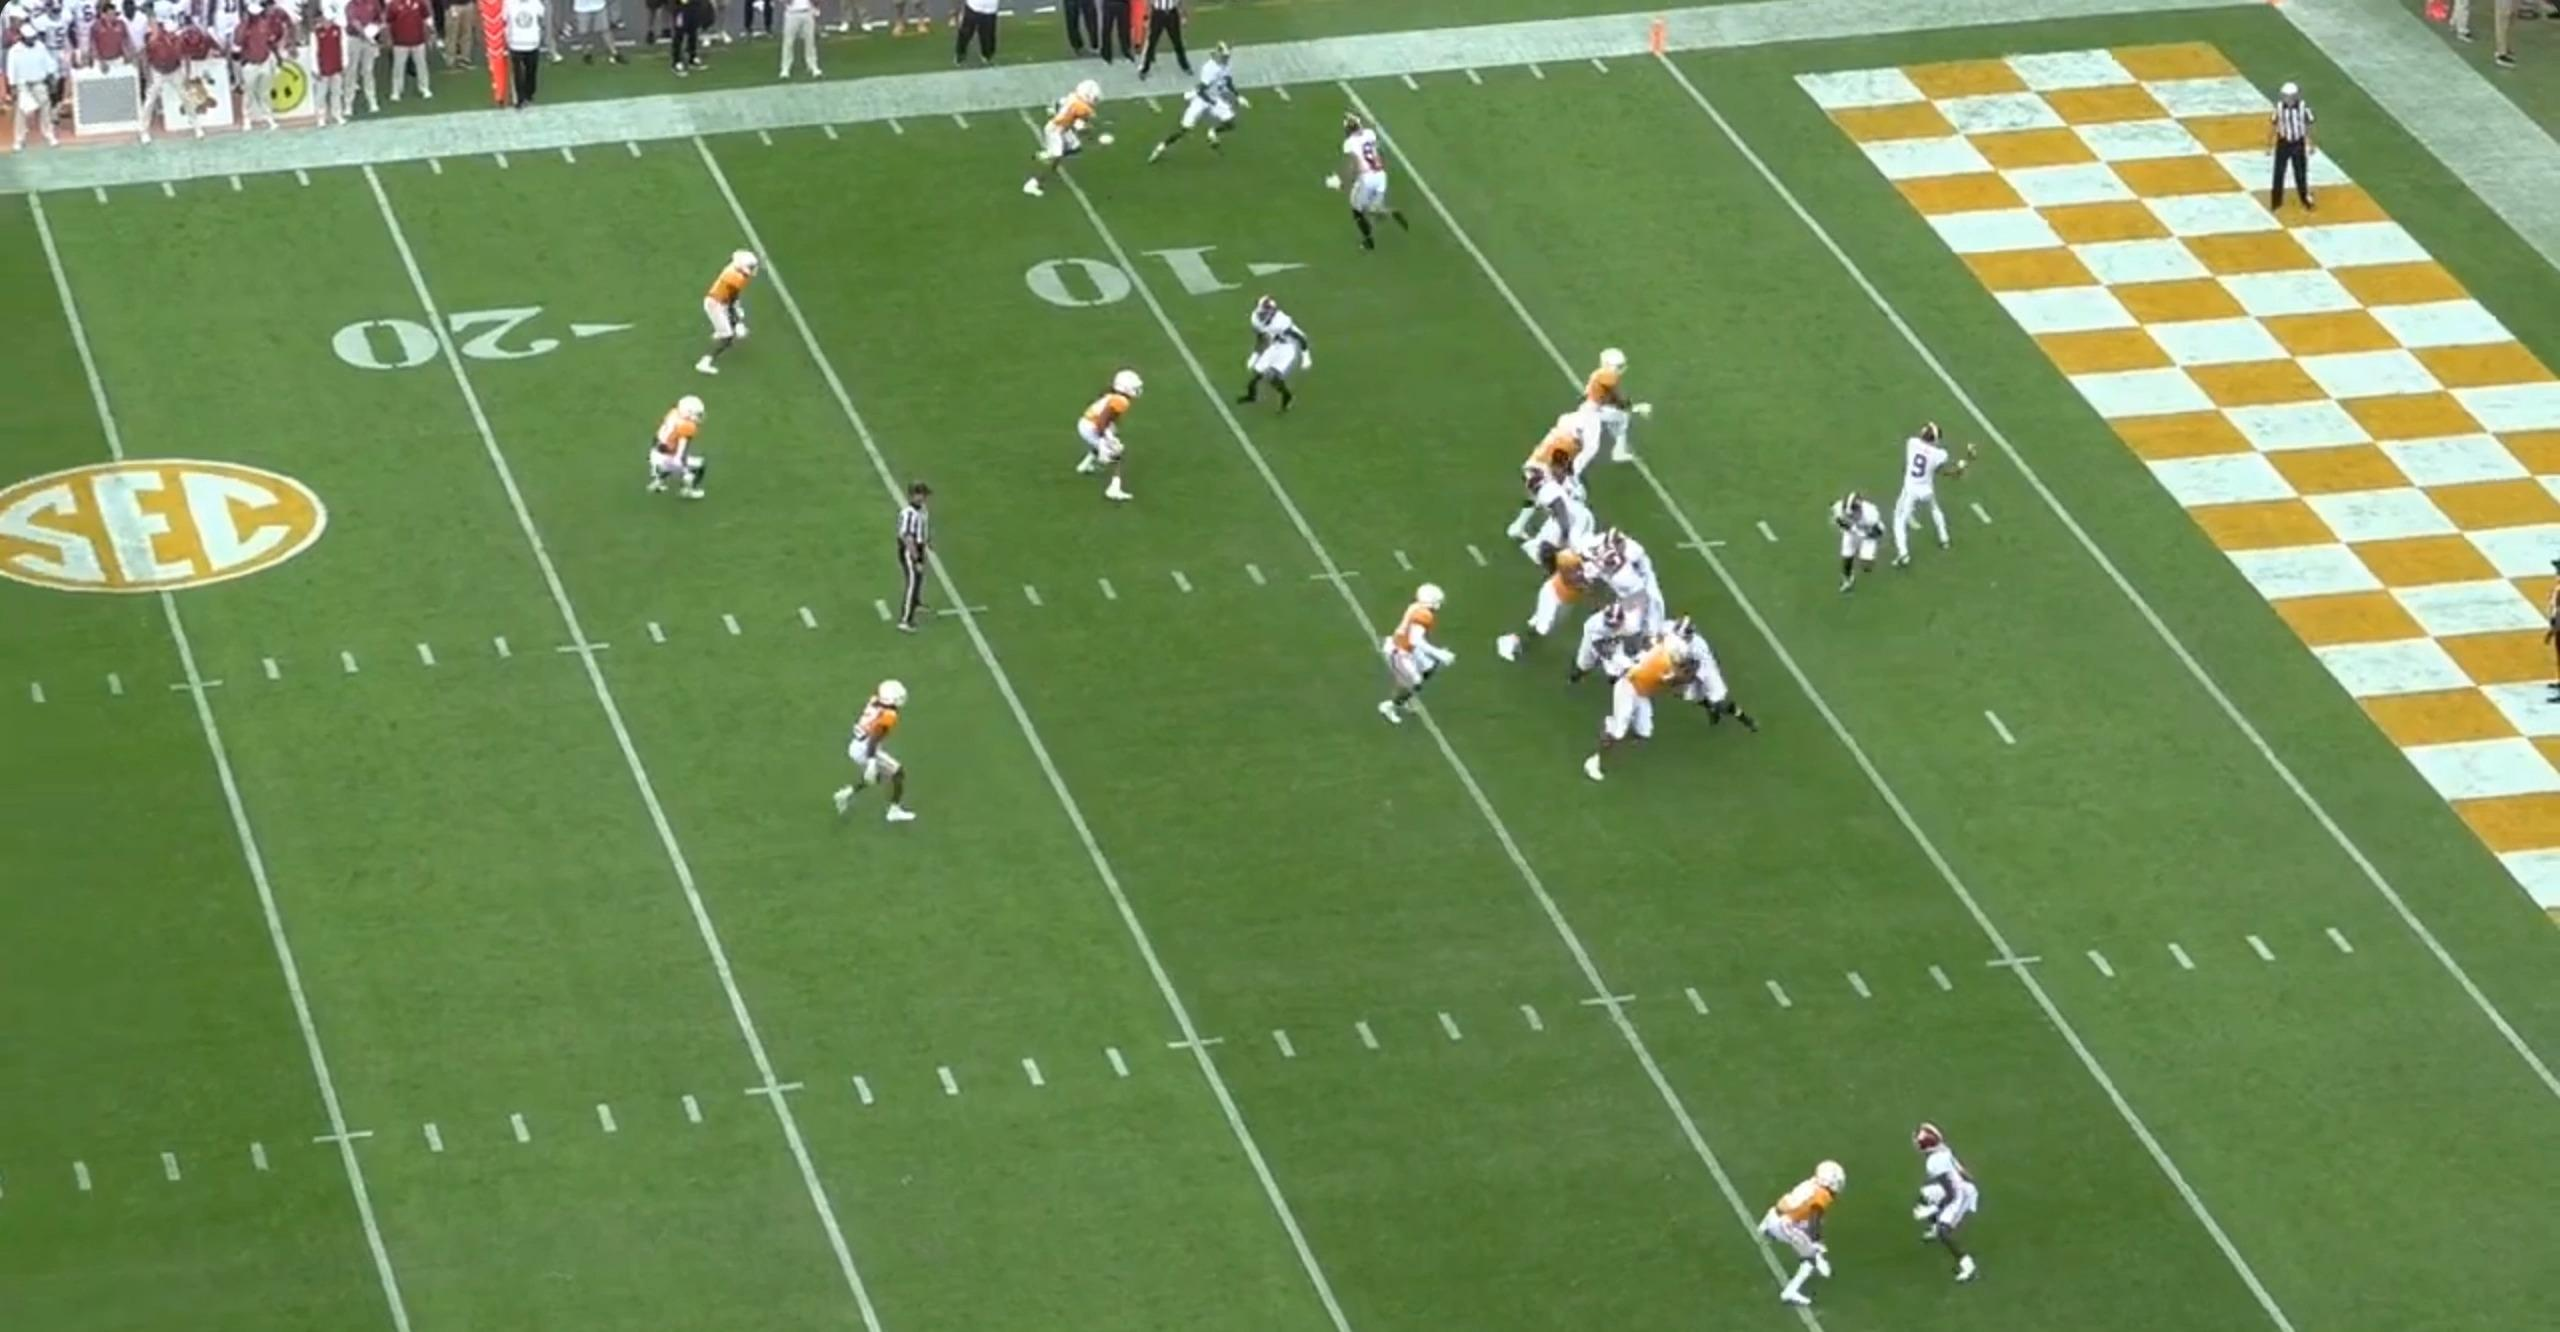player: (1581, 630, 1696, 786), (1494, 525, 1620, 662), (1897, 1120, 1991, 1289), (1749, 1156, 1844, 1318), (820, 674, 914, 830), (1661, 613, 1771, 742), (1495, 400, 1593, 543), (1381, 578, 1469, 730), (1900, 426, 1984, 578), (1153, 50, 1255, 174), (1326, 111, 1412, 258), (1022, 78, 1111, 204), (1069, 365, 1143, 509), (1244, 296, 1326, 423), (694, 241, 767, 379), (1574, 350, 1647, 477), (1583, 525, 1671, 625), (650, 387, 721, 506), (1522, 470, 1606, 564), (1816, 484, 1884, 596), (1562, 600, 1643, 692), (1582, 548, 1656, 633)
ref: (888, 486, 944, 644), (2266, 78, 2324, 216), (1136, 2, 1199, 90)
